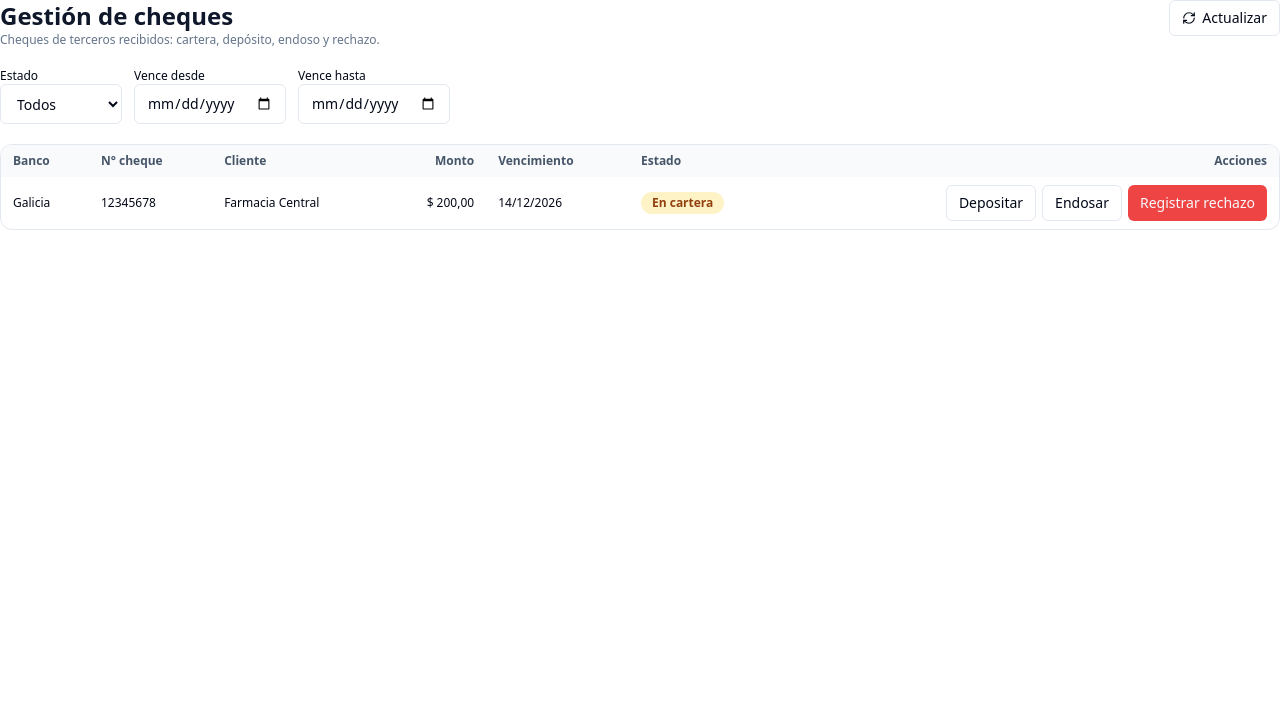
ChecksPage › shows the impact in the modal and sends the rejection only after confirming
Click the button "Registrar rechazo" at [1198, 203], box [1128,185,1267,221]
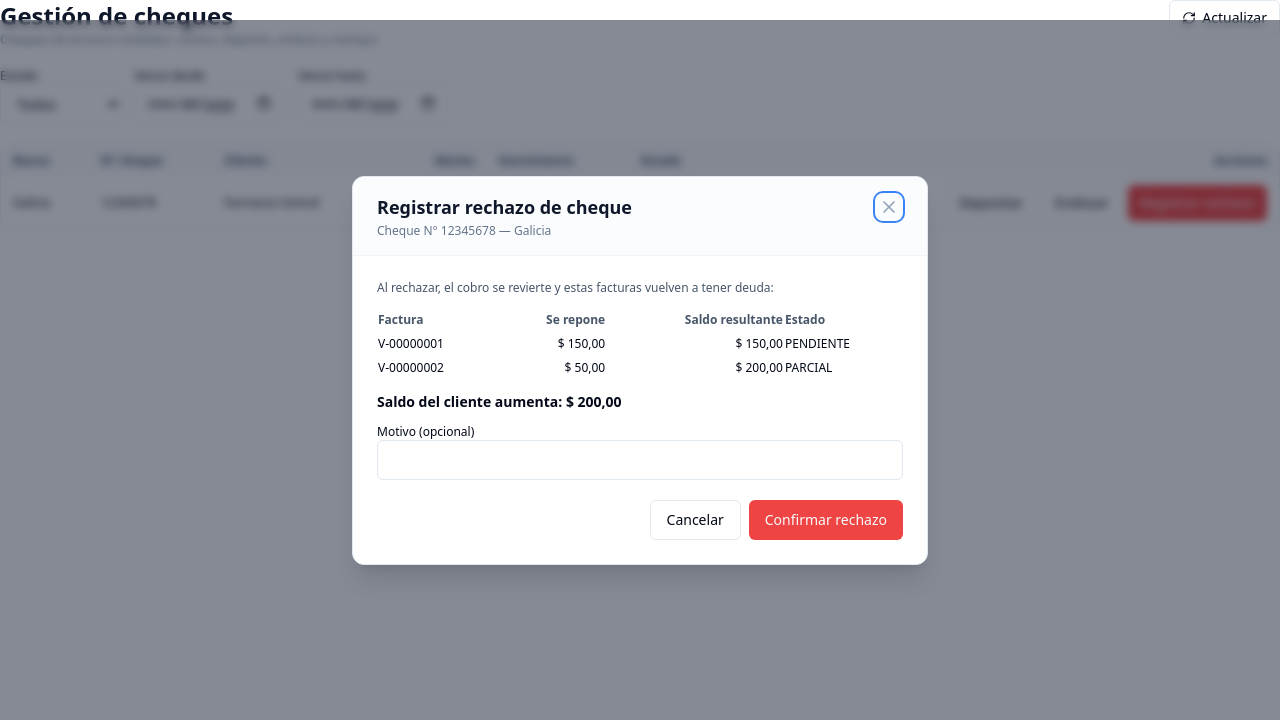
Now the text "V-00000001" is shown, box [377,332,498,356]
Now the text "V-00000002" is shown, box [377,356,498,380]
Now the text "Saldo del cliente aumenta: $ 200,00" is shown, box [377,392,622,410]
Type "Sin fondos" into the field named "Motivo del rechazo" at [640, 460], box [377,440,903,480]
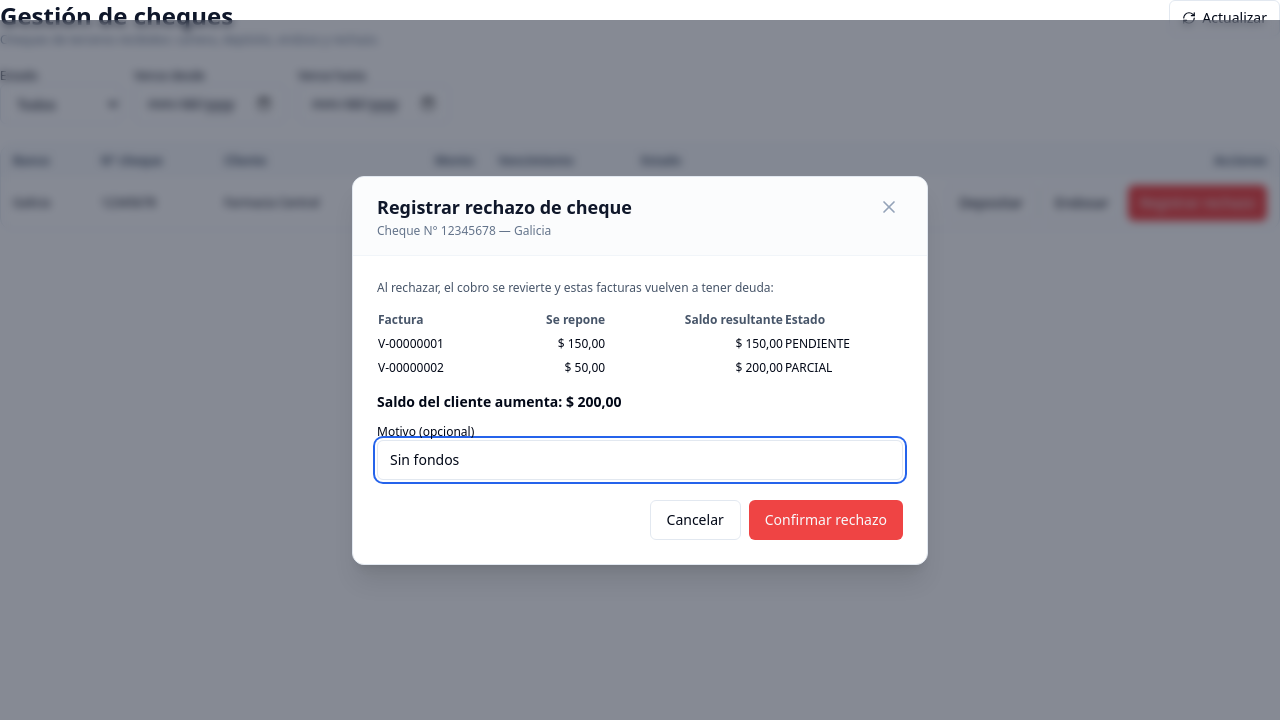
Click the button "Confirmar rechazo" at [826, 520], box [749,500,903,540]
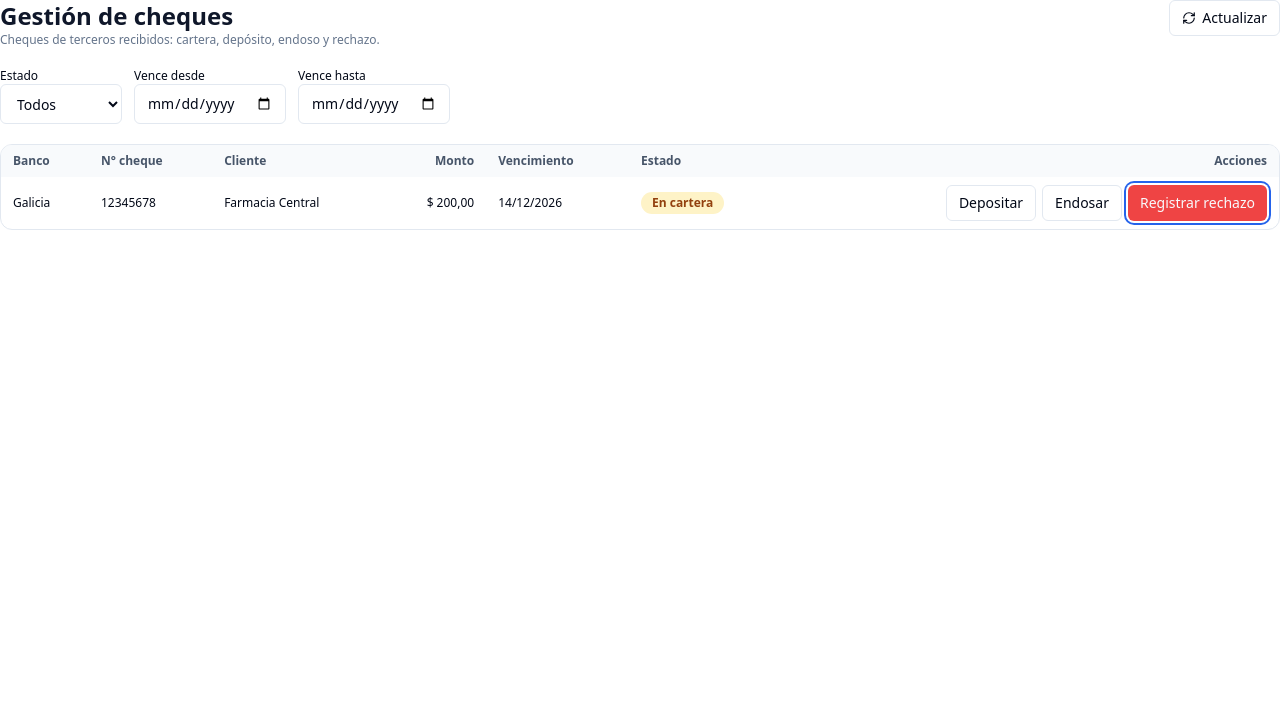
Now the dialog is gone
